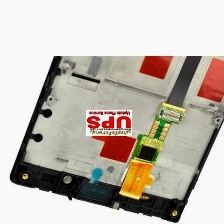phone: (7, 0, 223, 224)
